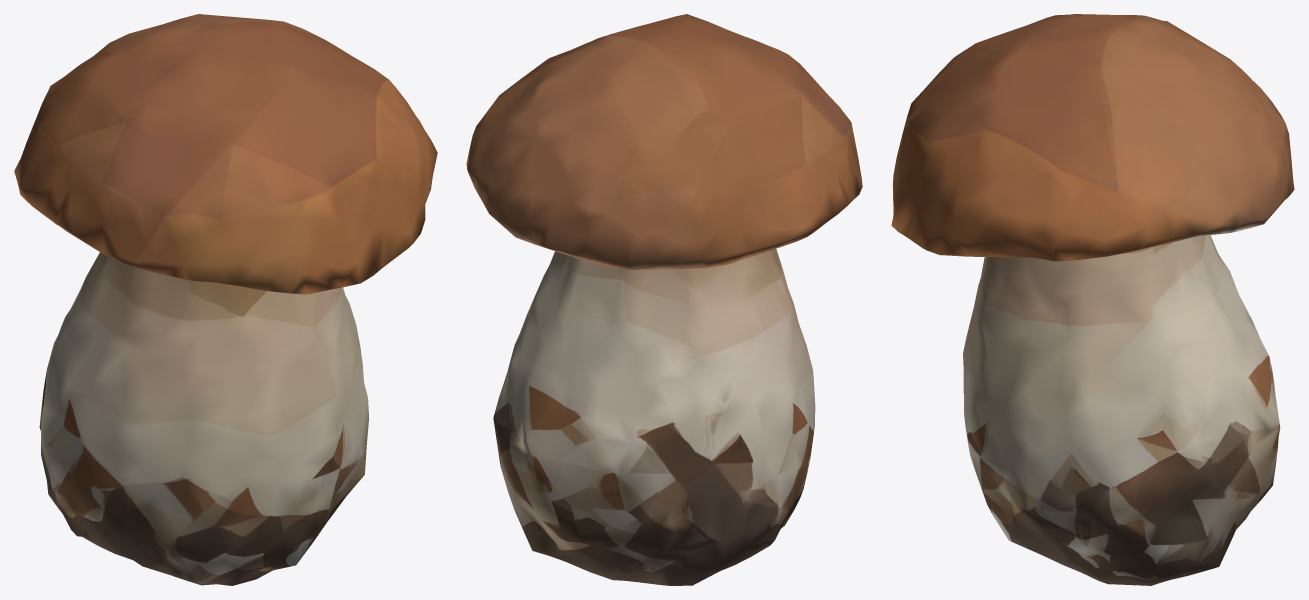
File: mushroom.glb
3 renders of one model, left to right at view 1: azimuth 30°, elevation 25°; view 2: azimuth 150°, elevation 25°; view 3: azimuth 270°, elevation 25°, orthographic. The views are drawn at different scales.
Parts seen in each view (by area): view 1: tripo_node_03d69fbb-bb11-4349-9b4c-cdfecc8ff04e; view 2: tripo_node_03d69fbb-bb11-4349-9b4c-cdfecc8ff04e; view 3: tripo_node_03d69fbb-bb11-4349-9b4c-cdfecc8ff04e.
Boxes of the visible parts, x1,y1,x2,y2 form: tripo_node_03d69fbb-bb11-4349-9b4c-cdfecc8ff04e: [14, 14, 437, 585]; tripo_node_03d69fbb-bb11-4349-9b4c-cdfecc8ff04e: [466, 14, 862, 585]; tripo_node_03d69fbb-bb11-4349-9b4c-cdfecc8ff04e: [891, 14, 1294, 585].
Size of the model in its own units: 0.693 by 0.9957 by 0.6874.
Materials: 1 (1 with a texture image).
